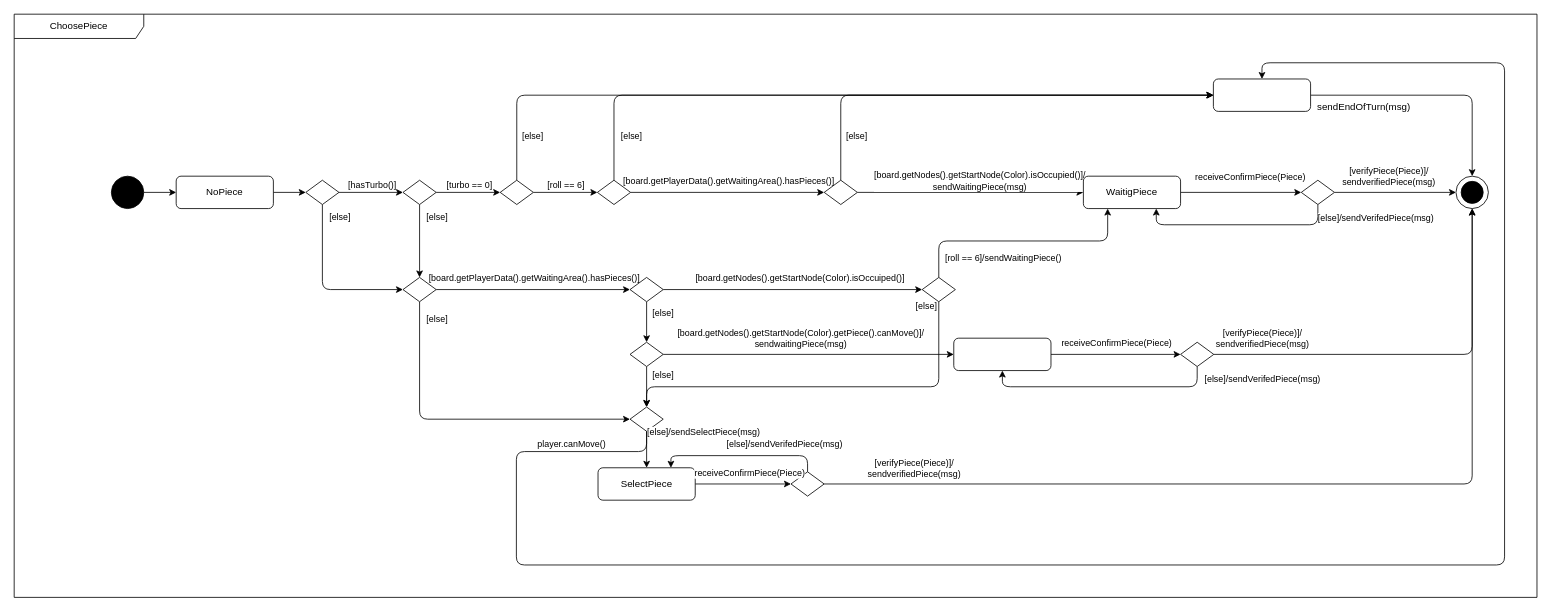
The diagram is 1551 pixels wide and 612 high, and some of its shapes have lost their labels. The shapes that lost their labels are listed below. From the top down, each one's centre as x and y in pixels, then its label:
pixel 1262 94: NoTurn
pixel 1002 354: StartPiece
